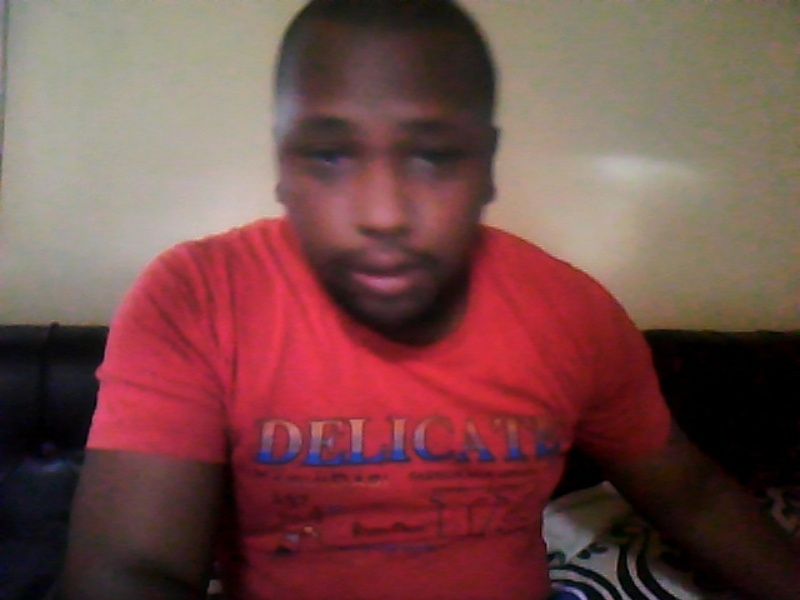TsisyArotava: (263, 6, 531, 353)
